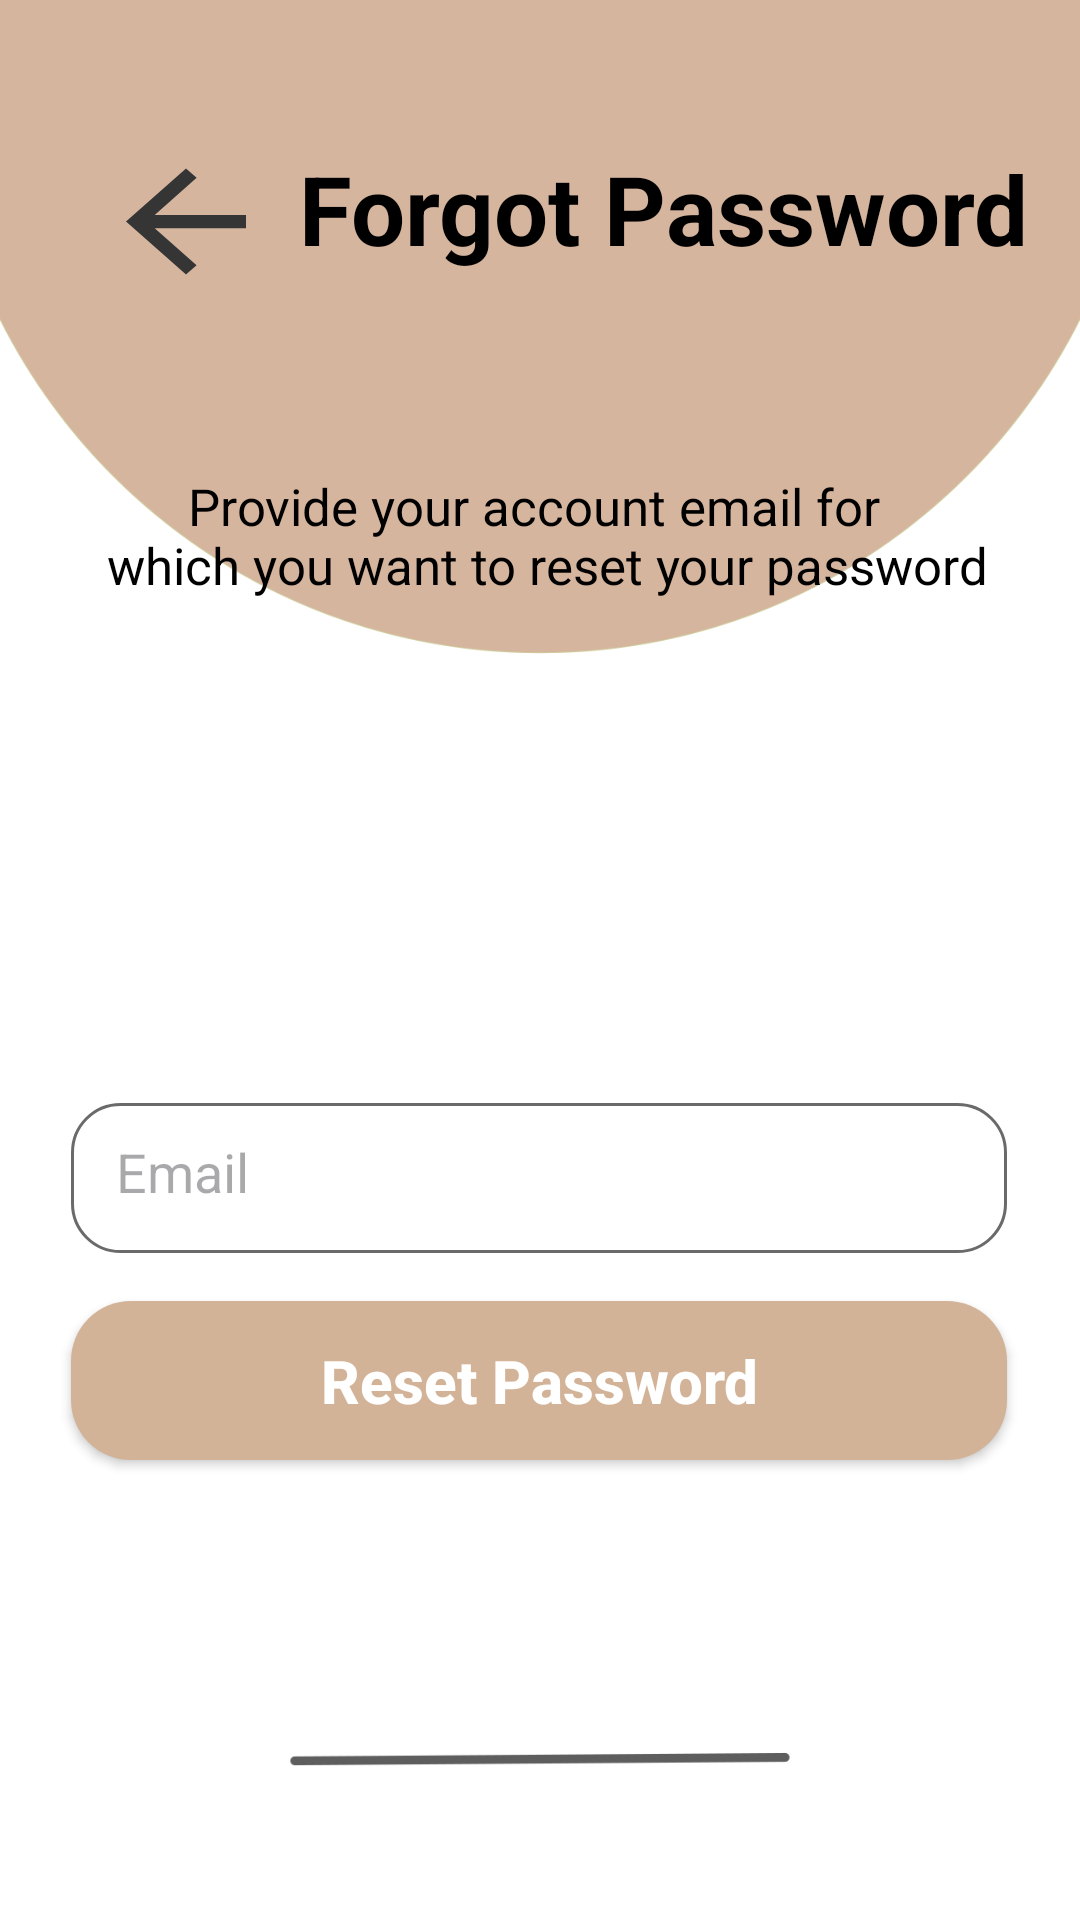

Icon click points for this 1080x1920 phone screenshot, format point (x, y):
arrow back: point (186, 221)
